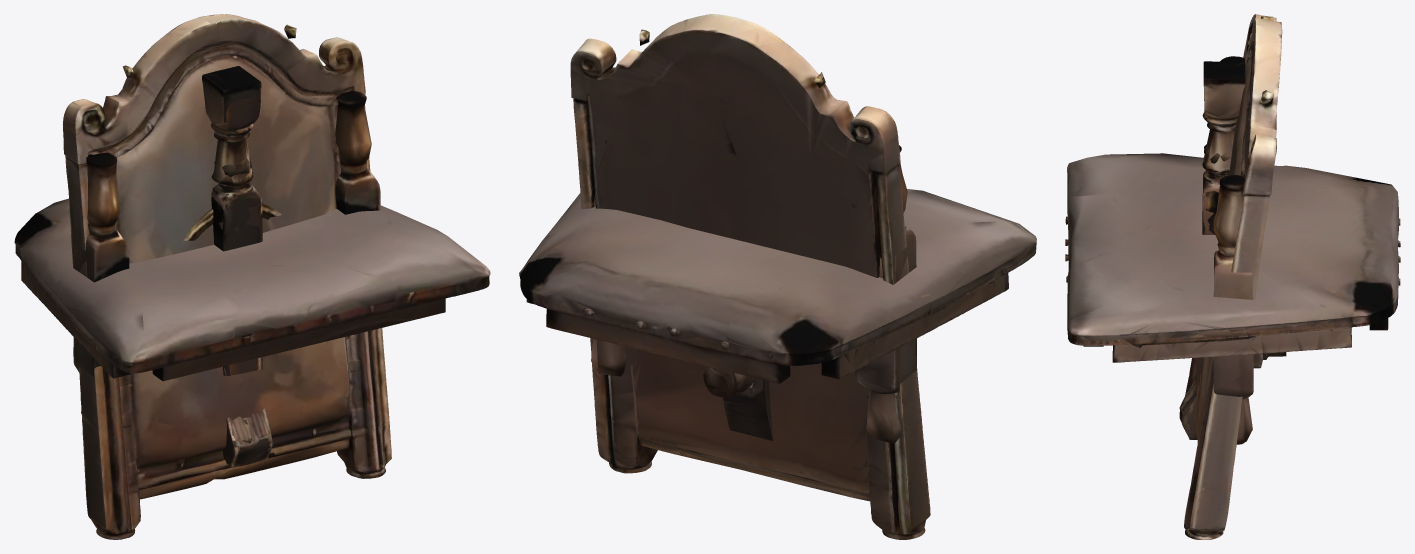
The picture shows the model from 3 angles, left to right: view 1: azimuth 30°, elevation 25°; view 2: azimuth 150°, elevation 25°; view 3: azimuth 270°, elevation 25°; orthographic projection. The views are drawn at different scales.
Parts seen in each view (by area): view 1: root.0, root.1, root.4, root.5, root.6, root.2; view 2: root.0, root.1, root.4, root.6, root.5; view 3: root.1, root.0, root.4, root.6, root.5, root.3.
Part boxes in pixels (box(x1,y1,x2,y2)): root.0: box(63, 14, 391, 539); root.1: box(14, 198, 490, 381); root.4: box(73, 91, 380, 417); root.5: box(202, 66, 272, 466); root.6: box(203, 66, 271, 467); root.2: box(183, 202, 281, 241); root.0: box(570, 14, 930, 539); root.1: box(519, 189, 1036, 383); root.4: box(591, 145, 916, 443); root.6: box(703, 366, 772, 440); root.5: box(706, 372, 770, 437); root.1: box(1065, 153, 1400, 362); root.0: box(1184, 14, 1282, 539); root.4: box(1213, 56, 1253, 444); root.6: box(1179, 61, 1286, 436); root.5: box(1179, 61, 1285, 439); root.3: box(1132, 329, 1254, 347).
Bounding box in the file's own units: 23624 × 28217 × 19131.
Materials: 1 (1 with a texture image).
